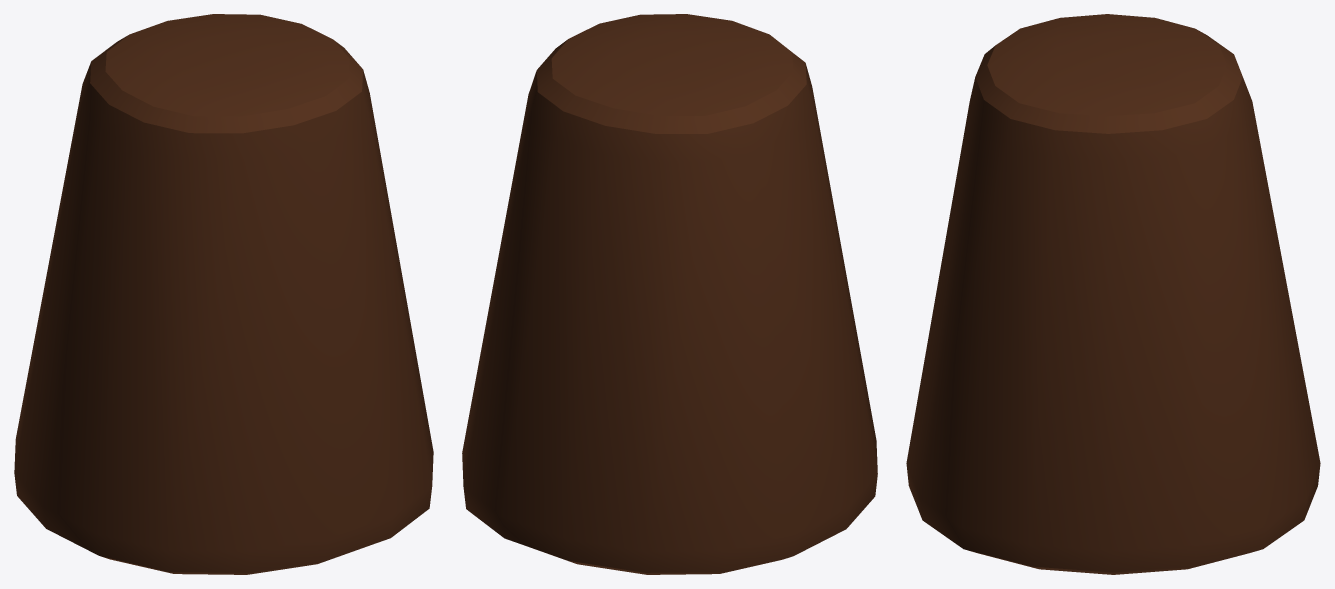
File: RockPlatform_Tall.obj
3 renders of one model, left to right at view 1: azimuth 30°, elevation 25°; view 2: azimuth 150°, elevation 25°; view 3: azimuth 270°, elevation 25°, orthographic.
Parts seen in each view (by area): view 1: RockPlatform_Tall_Cube.379; view 2: RockPlatform_Tall_Cube.379; view 3: RockPlatform_Tall_Cube.379.
Boxes of the visible parts, x1,y1,x2,y2 form: RockPlatform_Tall_Cube.379: [14, 14, 433, 574]; RockPlatform_Tall_Cube.379: [462, 14, 877, 574]; RockPlatform_Tall_Cube.379: [906, 14, 1320, 574].
Size of the model in its own units: 3.58 by 4.26 by 3.58.
